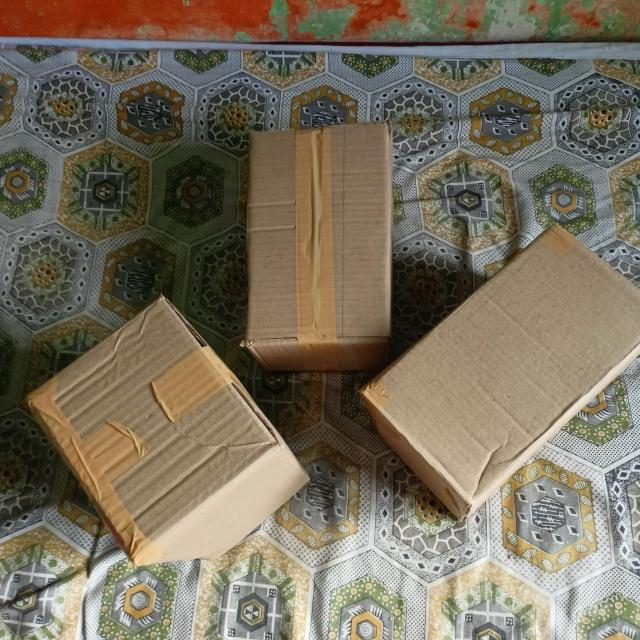box: (364, 225, 640, 508), (31, 296, 272, 555), (246, 122, 389, 343)
